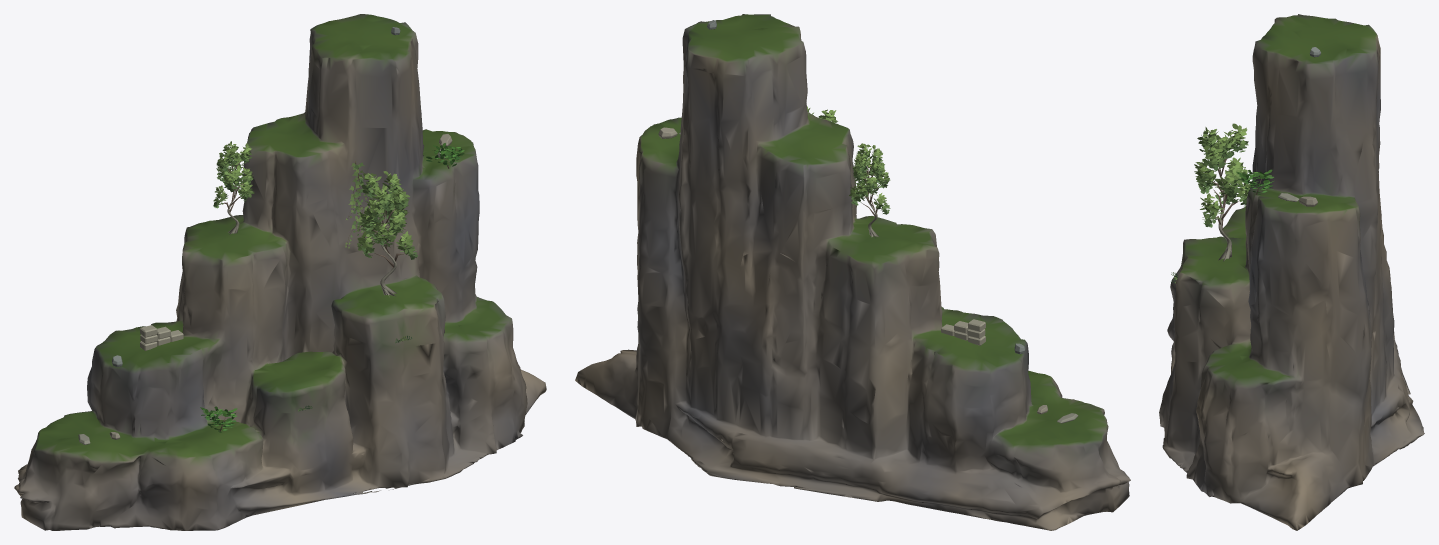
File: doc-van.glb
3 renders of one model, left to right at view 1: azimuth 30°, elevation 25°; view 2: azimuth 150°, elevation 25°; view 3: azimuth 270°, elevation 25°, orthographic. The views are drawn at different scales.
Visible parts, largest first — view 1: Vân Sơn · continuous eroded crag, grove 00 leaves, grove 01 leaves, Ivy leaves; view 2: Vân Sơn · continuous eroded crag, grove 01 leaves; view 3: Vân Sơn · continuous eroded crag, grove 00 leaves, grove 00 trunk, shrub 03 leaves.
Boxes of the visible parts, x1,y1,x2,y2 form: Vân Sơn · continuous eroded crag: [14, 14, 546, 530]; grove 00 leaves: [357, 171, 417, 259]; grove 01 leaves: [213, 141, 254, 208]; Ivy leaves: [345, 162, 368, 248]; Vân Sơn · continuous eroded crag: [575, 14, 1130, 530]; grove 01 leaves: [849, 143, 890, 214]; Vân Sơn · continuous eroded crag: [1159, 14, 1424, 530]; grove 00 leaves: [1194, 123, 1250, 227]; grove 00 trunk: [1211, 156, 1239, 261]; shrub 03 leaves: [1236, 169, 1273, 194].
Size of the model in its own units: 40.58 by 28.66 by 16.71.
